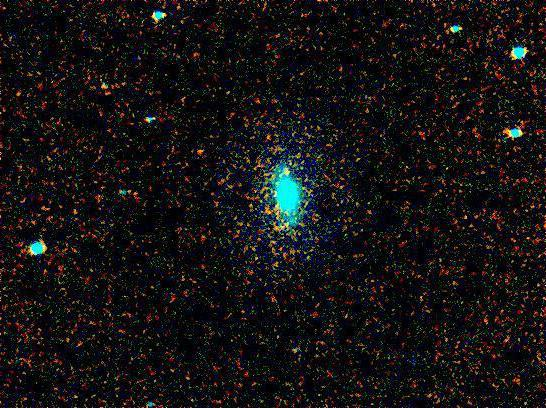star: (269, 151, 299, 181)
